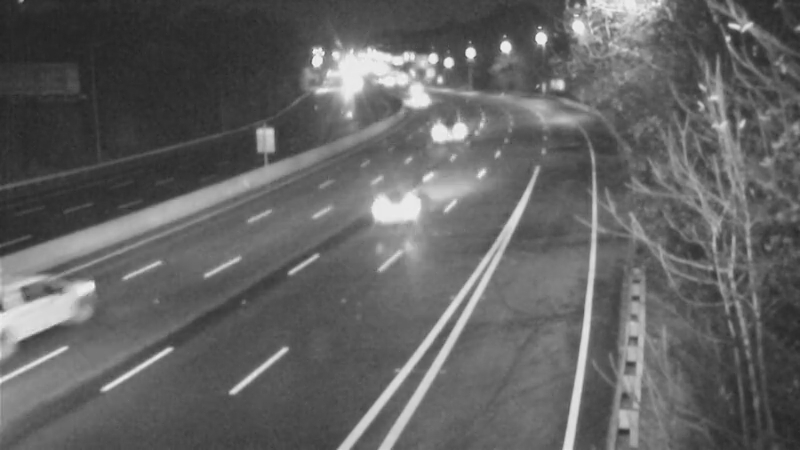vehicle: (1, 246, 97, 356), (383, 153, 463, 233), (388, 78, 438, 128), (422, 103, 472, 153)
